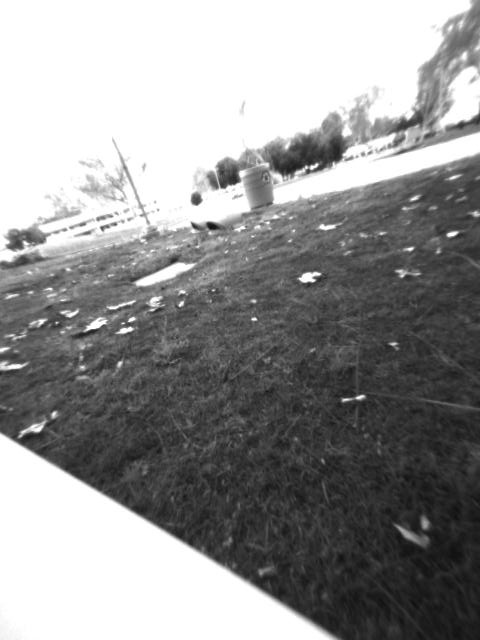trashcan: (238, 157, 277, 210)
